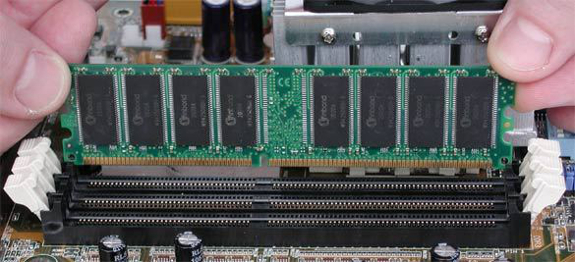ram: (59, 63, 517, 171)
